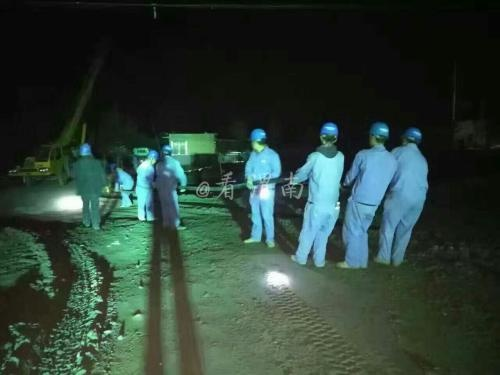blue: (317, 120, 340, 146), (368, 119, 389, 147), (400, 124, 423, 147), (247, 127, 267, 150), (77, 142, 93, 160), (147, 149, 160, 165), (160, 143, 173, 158)
